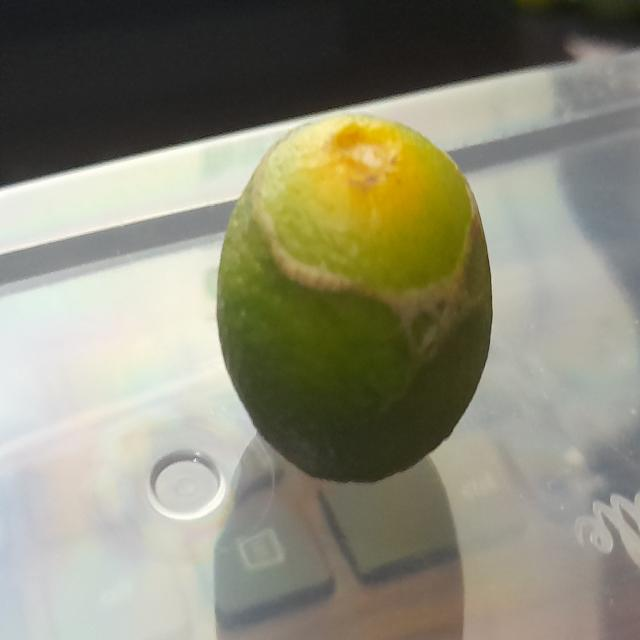thrips: (210, 118, 501, 486)
